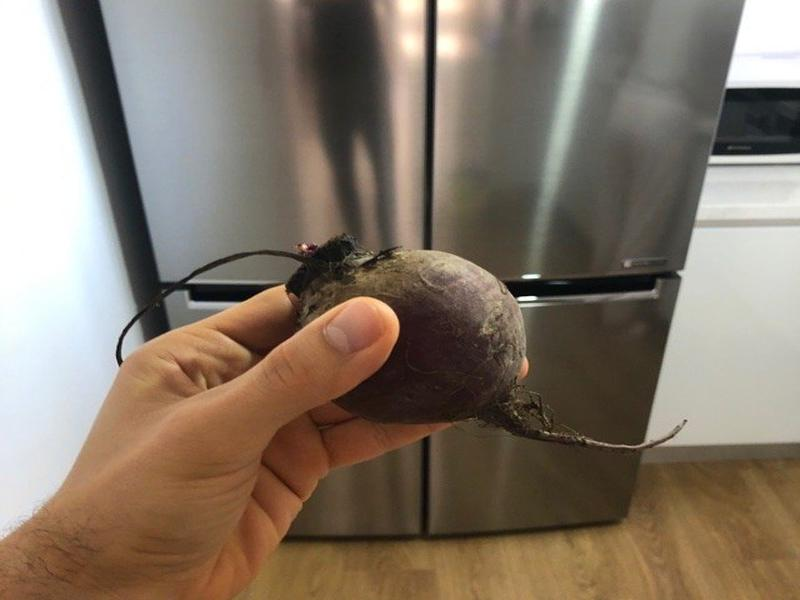Beet: (116, 238, 691, 451)
